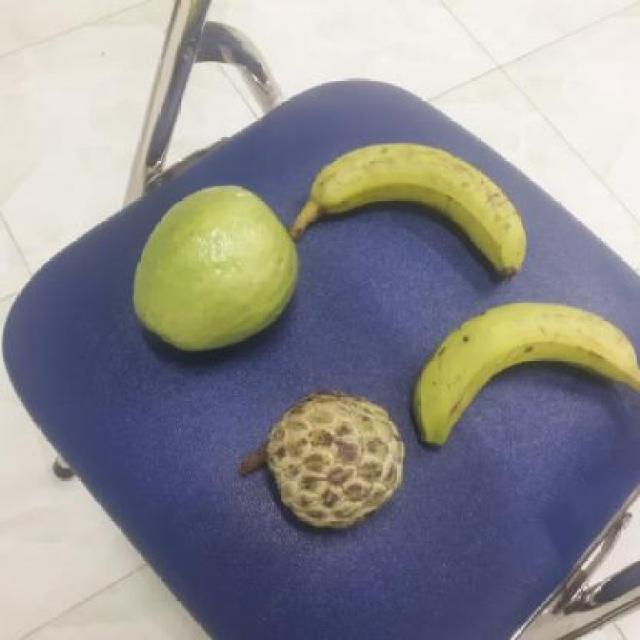banana: (410, 299, 639, 446), (290, 144, 519, 284)
guava: (127, 189, 298, 351)
sugar apple: (238, 390, 400, 528)
